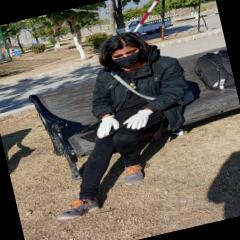gloved: (123, 108, 155, 131), (92, 114, 120, 138)
